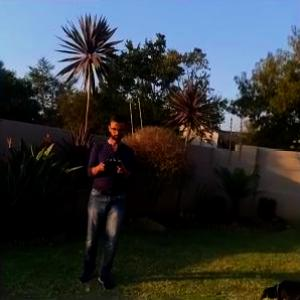follow: (76, 108, 135, 293)
null: (255, 273, 299, 299)
